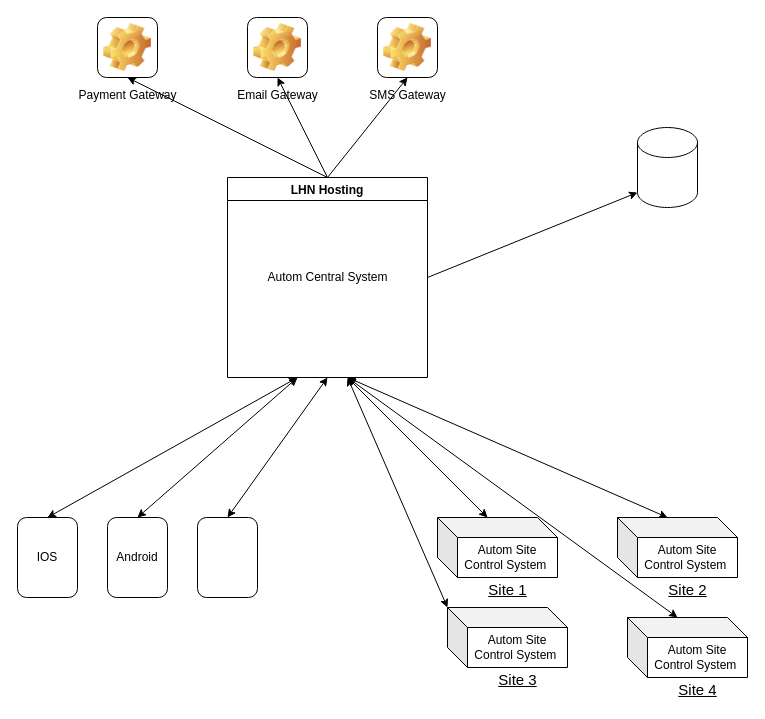
The diagram is 765 pixels wide and 719 high, and some of its shapes have lost their labels. Each missing label, with the centre of its shape:
"LHN Centris System" belongs at (x=667, y=167).
"Web Portal" belongs at (x=227, y=557).
